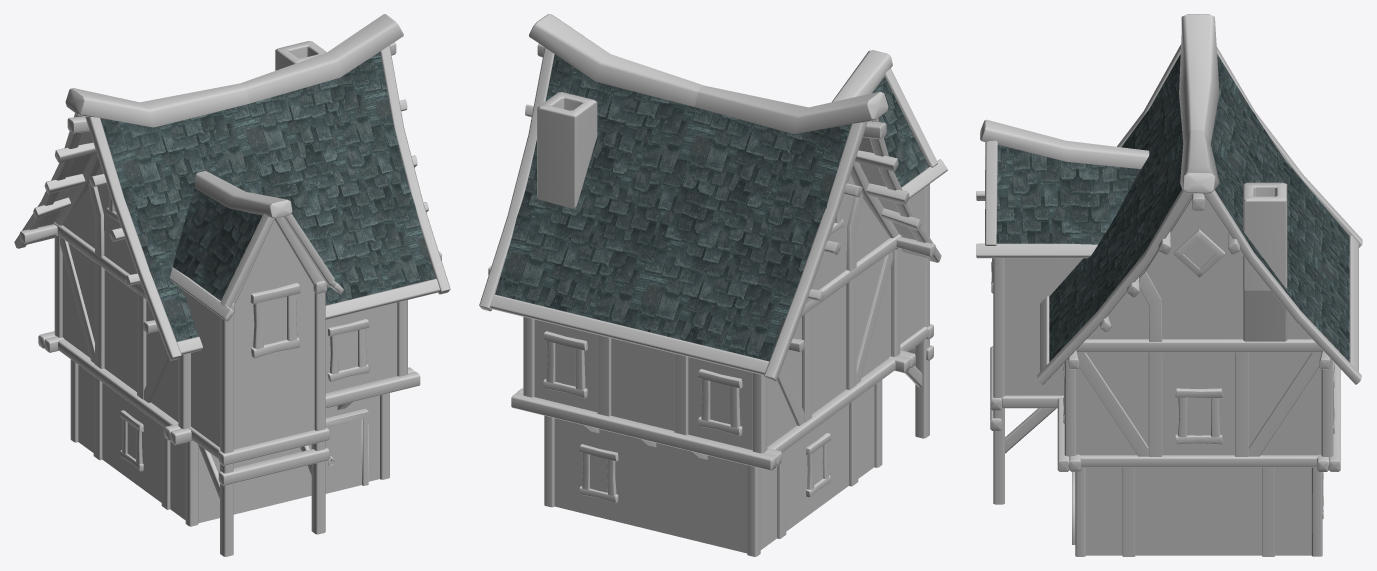
The model's file is house26.fbx.
3 renders of one model, left to right at view 1: azimuth 30°, elevation 25°; view 2: azimuth 150°, elevation 25°; view 3: azimuth 270°, elevation 25°, orthographic. The views are drawn at different scales.
Parts seen in each view (by area): view 1: house26; view 2: house26; view 3: house26.
Boxes of the visible parts, x1,y1,x2,y2 form: house26: [14, 14, 450, 556]; house26: [479, 14, 947, 556]; house26: [976, 14, 1362, 556].
Size of the model in its own units: 1070 by 1258 by 1060.
